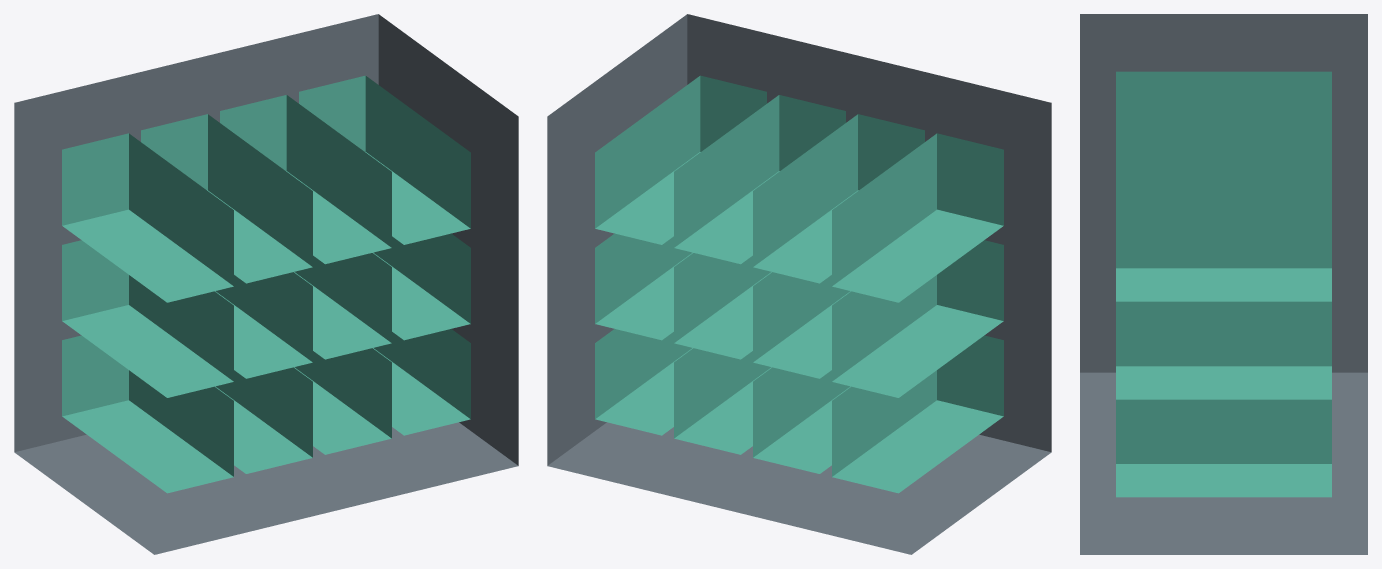
File: battery_bank.gltf
The picture shows the model from 3 angles, left to right: view 1: azimuth 30°, elevation 25°; view 2: azimuth 150°, elevation 25°; view 3: azimuth 270°, elevation 25°; orthographic projection. The views are drawn at different scales.
Parts seen in each view (by area): view 1: cabinet, module_2_0, module_1_0, module_0_0, module_2_1, module_2_2, module_2_3, module_1_3, module_0_1, module_0_3, module_1_1, module_0_2 (+1 smaller); view 2: cabinet, module_2_0, module_1_0, module_0_0, module_2_1, module_2_2, module_2_3, module_1_3, module_0_1, module_0_3, module_1_1, module_0_2 (+1 smaller); view 3: cabinet, module_2_3, module_0_3, module_1_3, module_2_0, module_2_1, module_2_2.
Boxes of the visible parts, x1=… form: cabinet: x1=14, y1=14, x2=518, y2=554; module_2_0: x1=62, y1=133, x2=233, y2=302; module_1_0: x1=62, y1=240, x2=233, y2=397; module_0_0: x1=62, y1=335, x2=233, y2=493; module_2_1: x1=141, y1=114, x2=312, y2=283; module_2_2: x1=220, y1=95, x2=391, y2=264; module_2_3: x1=299, y1=75, x2=470, y2=244; module_1_3: x1=372, y1=233, x2=470, y2=340; module_0_1: x1=215, y1=367, x2=312, y2=473; module_0_3: x1=372, y1=329, x2=470, y2=435; module_1_1: x1=215, y1=272, x2=312, y2=378; module_0_2: x1=294, y1=348, x2=391, y2=454; cabinet: x1=547, y1=14, x2=1051, y2=554; module_2_0: x1=832, y1=133, x2=1003, y2=302; module_1_0: x1=832, y1=240, x2=1003, y2=397; module_0_0: x1=832, y1=335, x2=1003, y2=493; module_2_1: x1=753, y1=114, x2=924, y2=283; module_2_2: x1=674, y1=95, x2=845, y2=264; module_2_3: x1=595, y1=75, x2=766, y2=244; module_1_3: x1=595, y1=233, x2=693, y2=340; module_0_1: x1=753, y1=367, x2=850, y2=473; module_0_3: x1=595, y1=329, x2=693, y2=435; module_1_1: x1=753, y1=272, x2=850, y2=378; module_0_2: x1=674, y1=348, x2=771, y2=454; cabinet: x1=1080, y1=14, x2=1367, y2=554; module_2_3: x1=1116, y1=190, x2=1331, y2=301; module_0_3: x1=1116, y1=399, x2=1331, y2=497; module_1_3: x1=1116, y1=301, x2=1331, y2=399; module_2_0: x1=1116, y1=71, x2=1331, y2=110; module_2_1: x1=1116, y1=111, x2=1331, y2=150; module_2_2: x1=1116, y1=150, x2=1331, y2=189.
Size of the model in its own units: 1.2 by 1.1 by 0.8.
